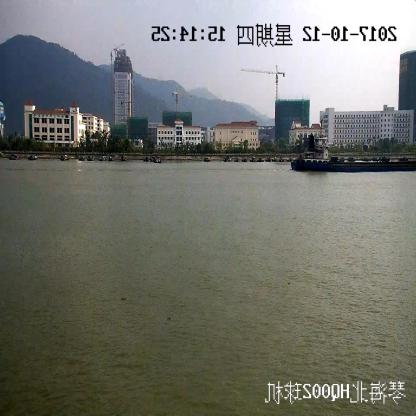Bulk Carrier: (291, 126, 415, 171)
